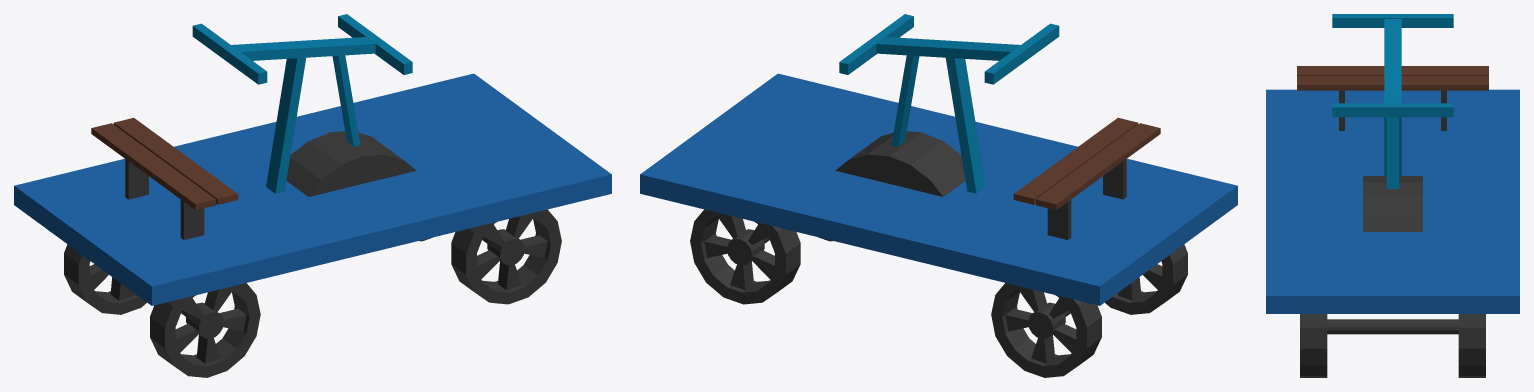
The model's file is TRAIN_LVL_1.fbx.
3 views of the same model, side by side, from view 1: azimuth 30°, elevation 25°; view 2: azimuth 150°, elevation 25°; view 3: azimuth 270°, elevation 25° (orthographic). The views are drawn at different scales.
Parts seen in each view (by area): view 1: dock, lever, wheels back, wheels front; view 2: dock, lever, wheels back, wheels front; view 3: dock, lever, wheels front.
Boxes of the visible parts, bbox=[...] form: dock: bbox=[14, 73, 611, 305]; lever: bbox=[192, 14, 416, 196]; wheels back: bbox=[64, 244, 260, 377]; wheels front: bbox=[419, 209, 561, 304]; dock: bbox=[640, 73, 1237, 305]; lever: bbox=[835, 14, 1059, 196]; wheels back: bbox=[991, 244, 1187, 377]; wheels front: bbox=[690, 209, 832, 304]; dock: bbox=[1266, 66, 1519, 313]; lever: bbox=[1332, 14, 1453, 231]; wheels front: bbox=[1300, 314, 1485, 377].
Bounding box in the file's own units: 154 × 87.8 × 79.95.
